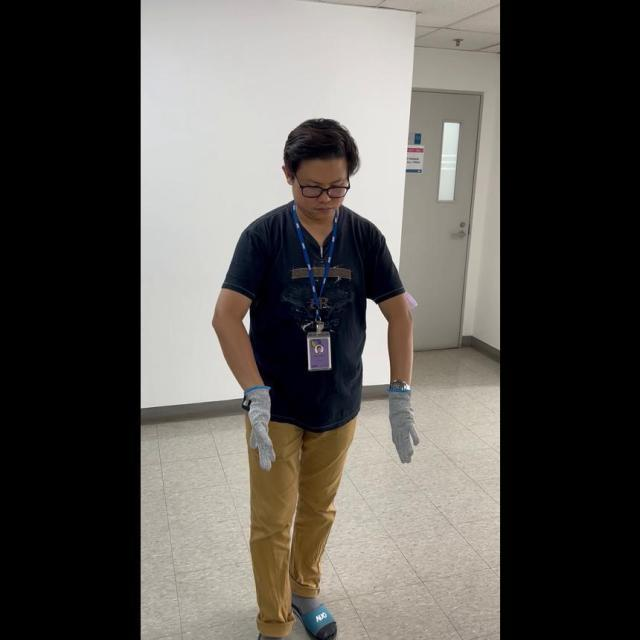gloved_hand: (238, 380, 276, 467), (381, 380, 419, 461)
